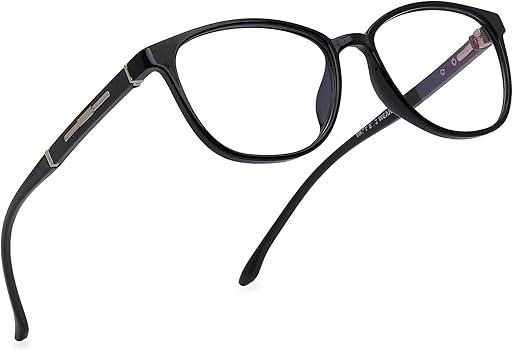spectacles: (95, 4, 513, 152)
